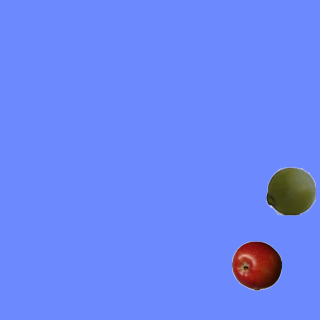Apple Braeburn: (231, 240, 281, 290)
Grape White 4: (265, 165, 315, 215)
